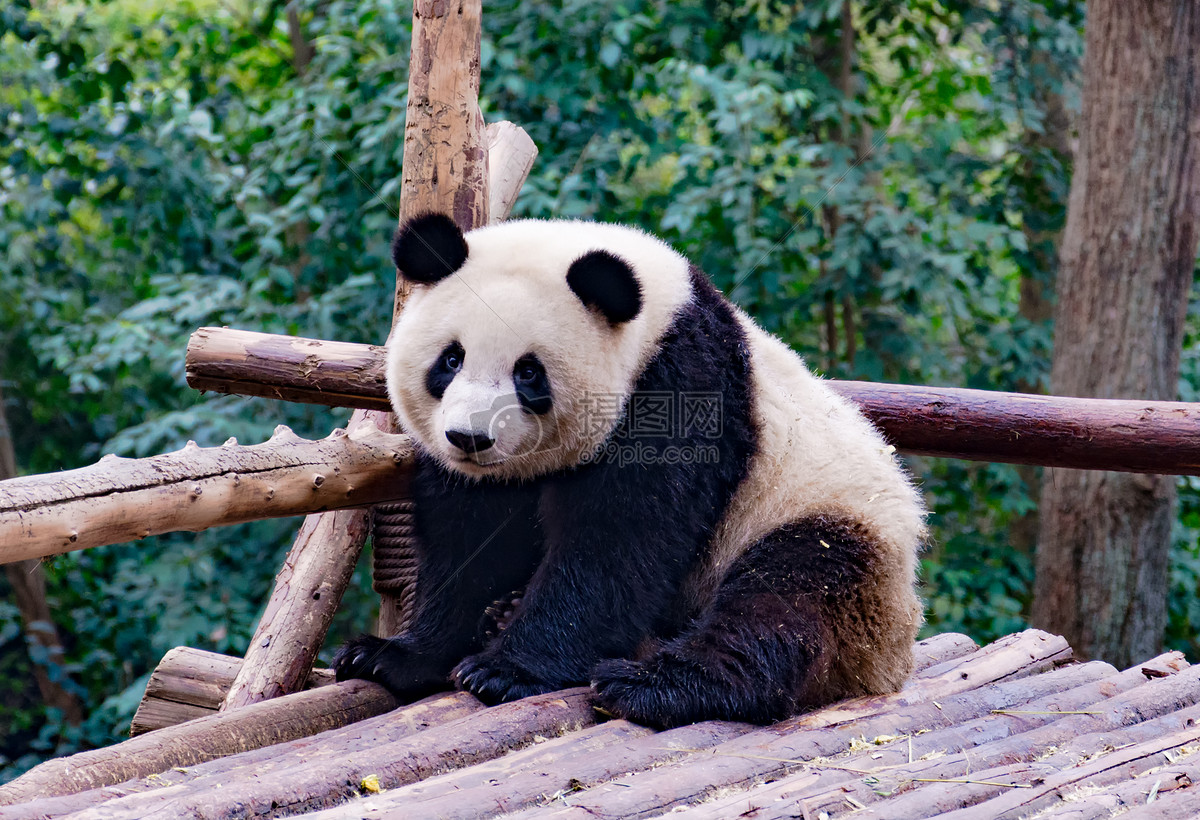panda: (293, 201, 962, 746)
